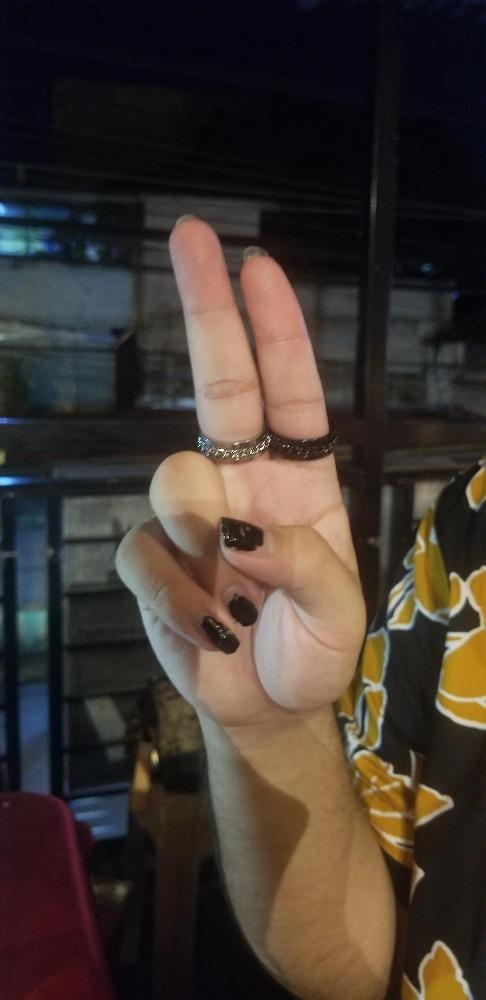u: (116, 213, 358, 722)
